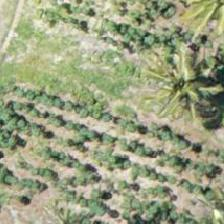coconut_tree: (132, 38, 222, 128), (167, 163, 223, 223)
